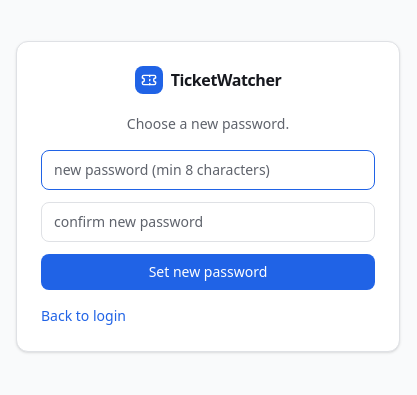
Test case: ResetPassword › catches a mismatch client-side instead of wasting the single-use token
The image size is (417, 395).
Type "password-one" into the password field with placeholder "new password (min 8 characters)" at point(208, 170), box [41, 150, 375, 190]
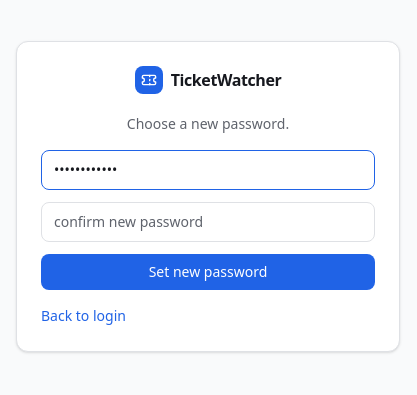
Type "password-two" into the password field with placeholder "confirm new password" at point(208, 222), box [41, 202, 375, 242]
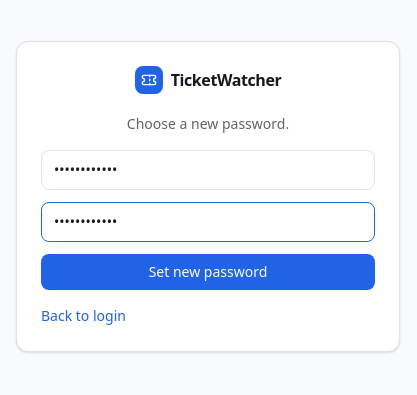
Click the button "Set new password" at point(208, 272), box [41, 254, 375, 290]
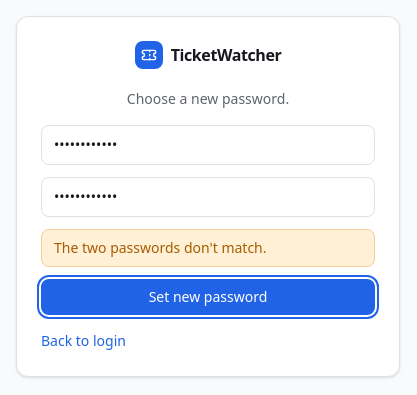
Expected: the text "The two passwords don't match." is shown, [41, 228, 375, 266]
